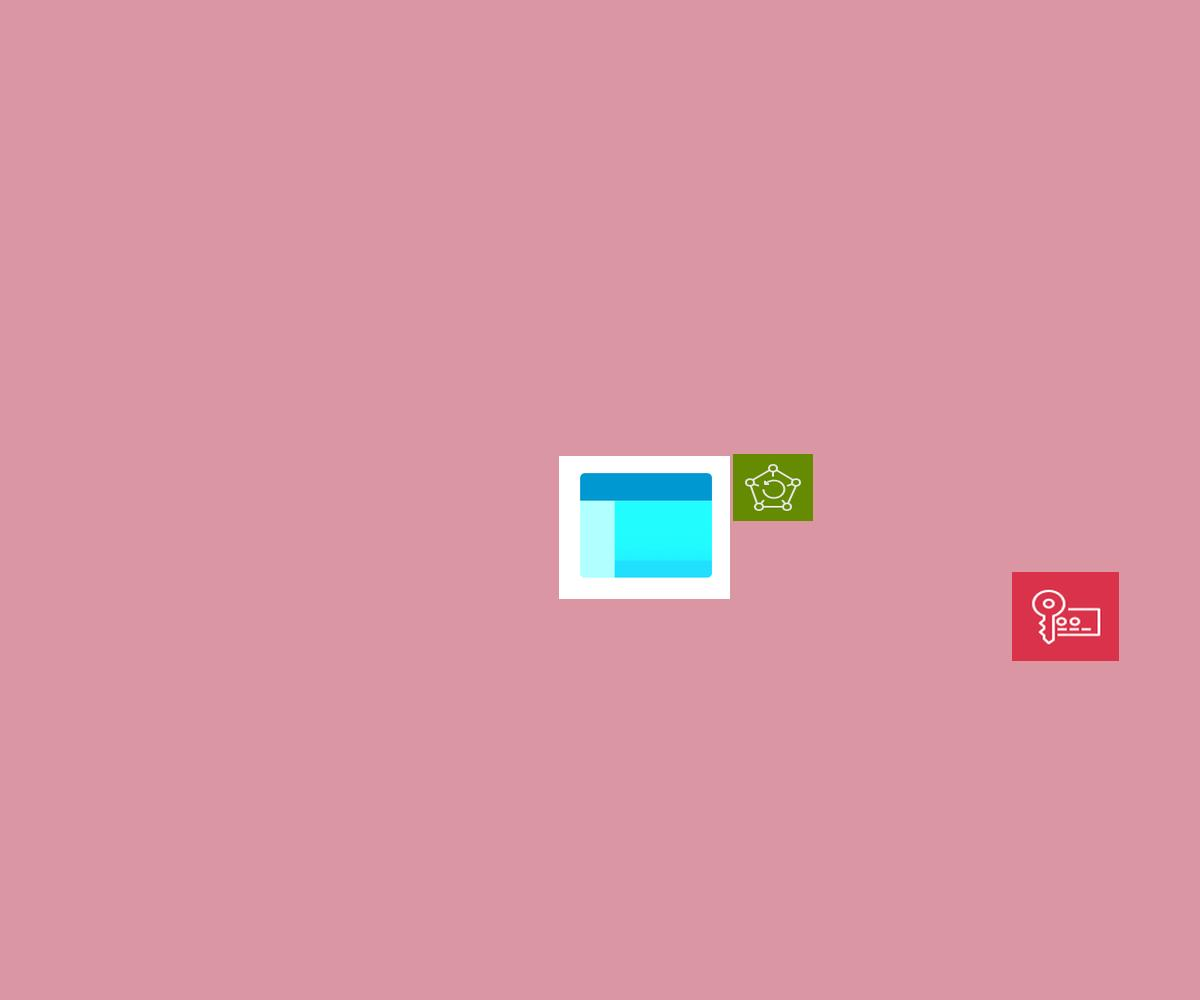AWS-Backup: (733, 454, 813, 521)
AWS-Key-Management-Service: (1012, 572, 1119, 661)
Azure_management-portal: (559, 456, 730, 599)
